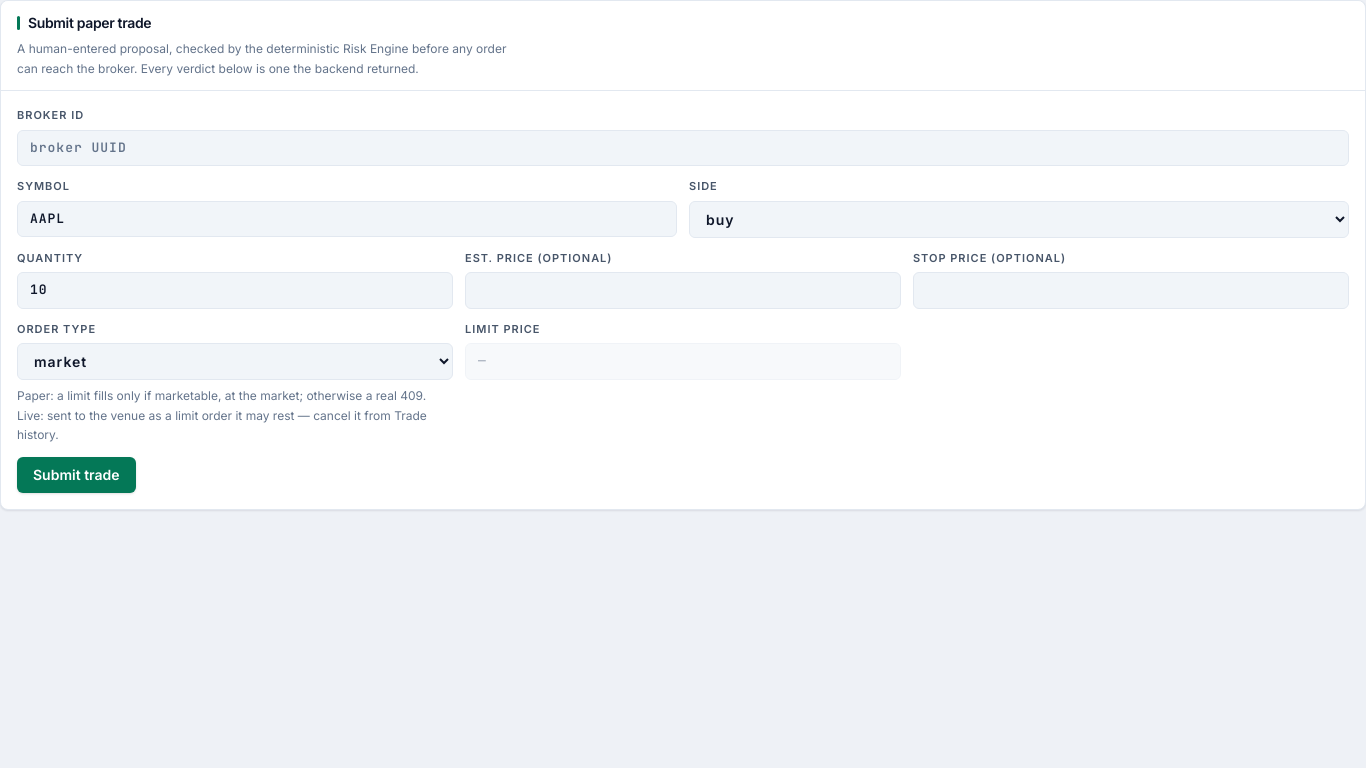
TradeForm › renders a filled trade's fill price/quantity
The width and height of the screenshot is (1366, 768).
Step 1. Type "11111111-1111-1111-1111-111111111111" into the field labelled "Broker ID" → coordinates (683, 148), box [17,130,1349,166]
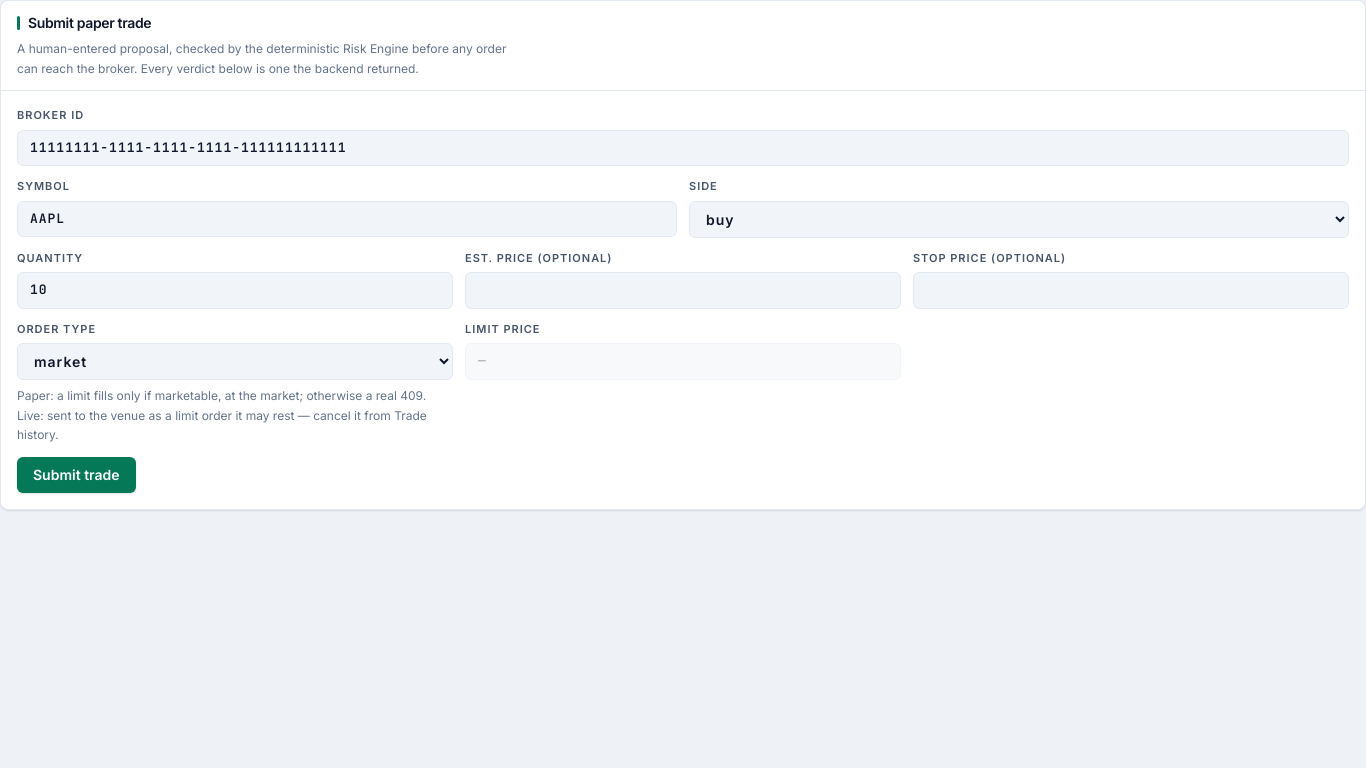
Step 2. Click the button "Submit trade" → coordinates (76, 475), box [17,457,136,493]
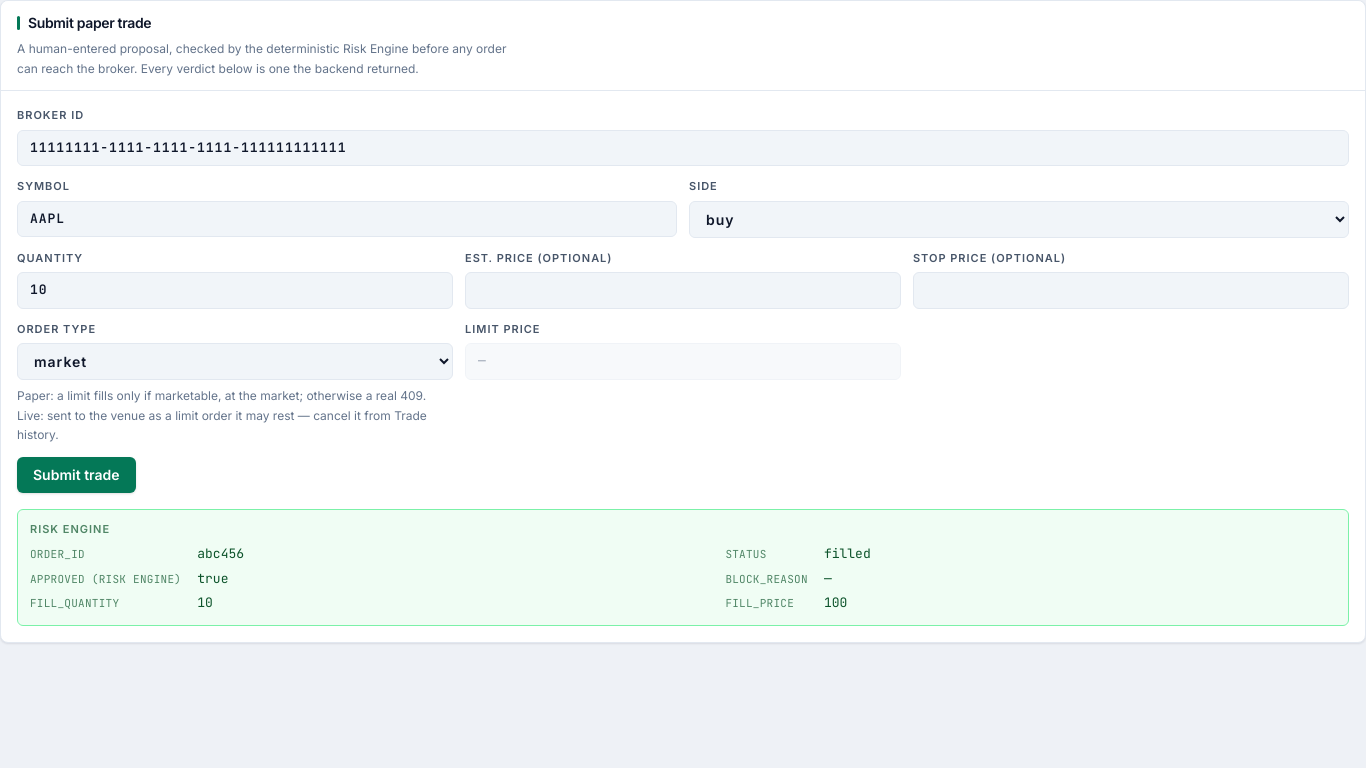
Expected: the text "filled" is shown, [824,545,871,562]
Expected: the text "10" is shown, [197,594,213,612]
Expected: the text "100" is shown, [824,594,847,612]
